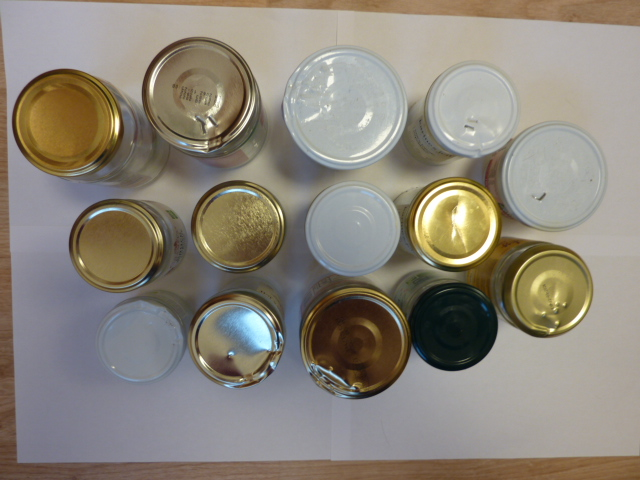intact: (306, 184, 400, 276)
